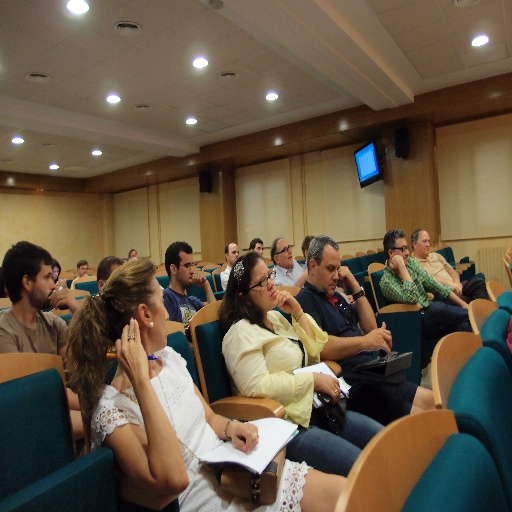hand: (95, 331, 181, 495), (113, 314, 149, 384), (228, 418, 258, 455), (364, 319, 393, 357), (314, 370, 342, 405), (275, 285, 302, 319), (47, 288, 77, 312), (337, 264, 358, 290), (190, 270, 208, 291), (388, 254, 405, 274), (448, 281, 460, 299), (456, 281, 464, 293), (60, 279, 67, 286), (462, 304, 468, 310), (56, 279, 60, 286)
